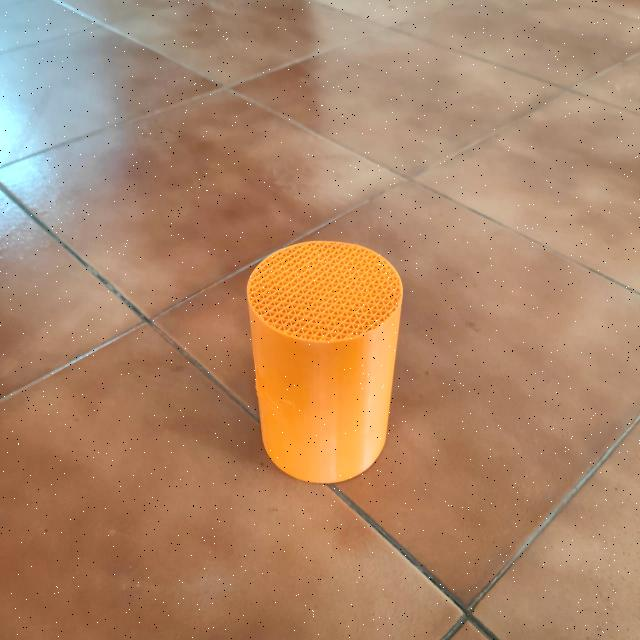Cylinder: (246, 239, 404, 484)
